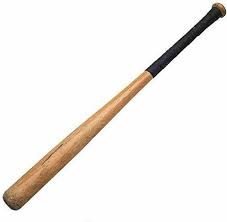baseball bat: (2, 1, 225, 211)
